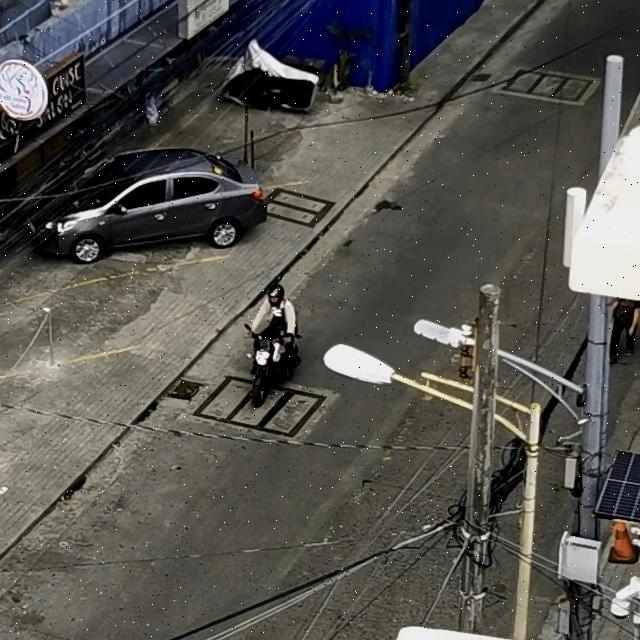Motorcycle: (249, 287, 304, 406)
